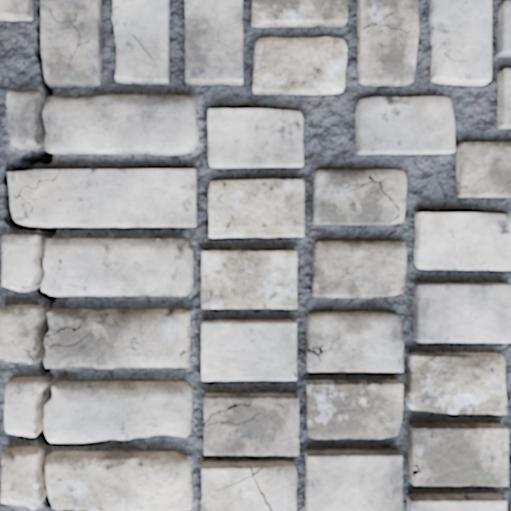brick: (9, 169, 195, 225), (409, 423, 507, 485), (406, 353, 506, 413), (204, 393, 298, 454), (306, 450, 401, 510), (414, 283, 510, 341), (306, 312, 402, 370), (356, 97, 454, 153), (202, 320, 295, 379), (208, 109, 302, 167), (306, 380, 401, 437), (209, 179, 303, 236), (202, 251, 296, 307), (415, 213, 510, 268), (253, 37, 346, 93), (429, 0, 490, 84), (312, 241, 405, 296), (41, 0, 100, 85), (358, 0, 417, 85), (312, 170, 405, 223), (186, 0, 242, 84), (112, 0, 168, 83), (202, 461, 295, 510), (456, 142, 510, 196), (252, 0, 346, 26), (407, 493, 505, 510), (497, 1, 510, 55), (498, 69, 510, 127), (0, 0, 32, 19)
broken_brick: (44, 94, 198, 155), (45, 380, 192, 443), (43, 238, 193, 296), (47, 450, 192, 510), (45, 308, 190, 368), (3, 376, 44, 437), (0, 304, 41, 364), (1, 446, 39, 510), (1, 234, 39, 292), (5, 90, 41, 149)
crack: (0, 2, 88, 508), (344, 174, 401, 223), (13, 170, 60, 213), (203, 400, 260, 428), (140, 290, 157, 295), (292, 370, 297, 377)
